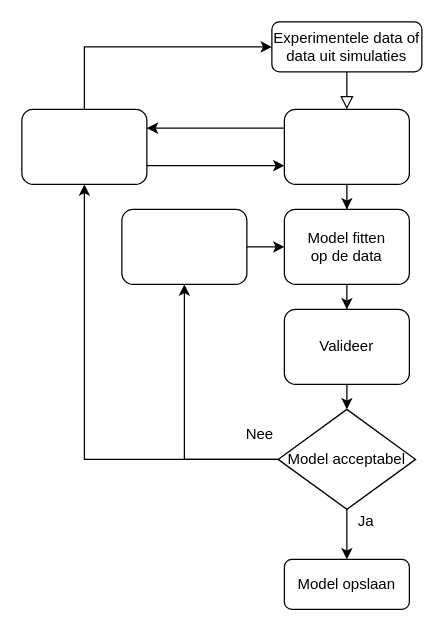
Some shapes in this 444 by 631 pixel diagram are drawn without their labels. The shapes that lost their labels are listed below. From the top down, each one's centre as x and y in pixels, then its label:
At point (84, 146): "Filter".
At point (346, 146): "Data opschonen".
At point (184, 246): "Kies modelstructuur".
